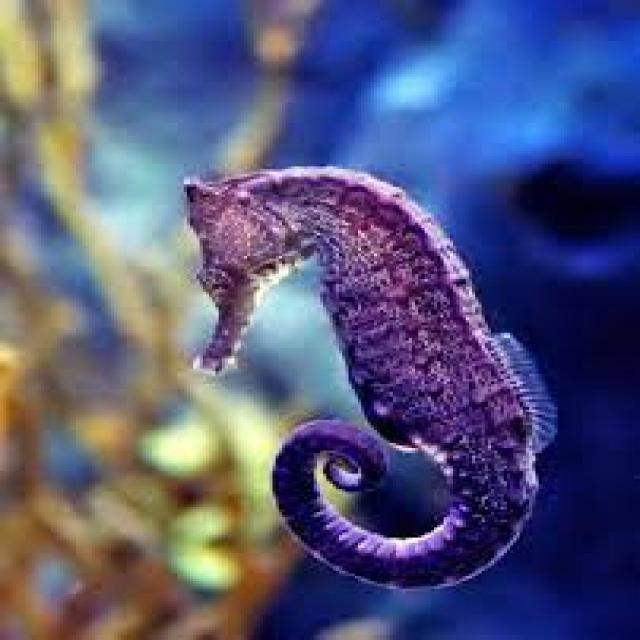SeaHorse: (183, 166, 558, 594)
